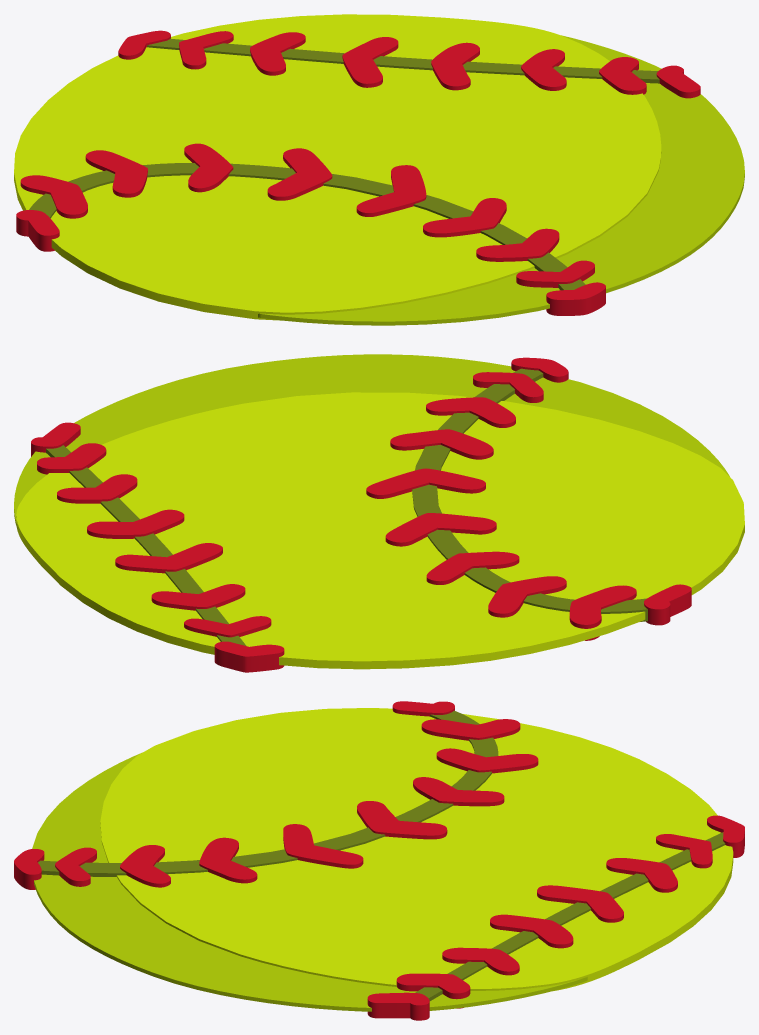
The model's file is emoji_u1f94e.glb.
3 views of the same model, one above another, from view 1: azimuth 30°, elevation 25°; view 2: azimuth 150°, elevation 25°; view 3: azimuth 270°, elevation 25° (orthographic). The views are drawn at different scales.
Parts seen in each view (by area): view 1: emoji_u1f94e; view 2: emoji_u1f94e; view 3: emoji_u1f94e.
Part boxes in pixels (box(x1,y1,x2,y2)): emoji_u1f94e: box(14, 14, 744, 325); emoji_u1f94e: box(14, 354, 744, 672); emoji_u1f94e: box(14, 701, 744, 1020).
Bounding box in the file's own units: 0.0341 × 0.0008 × 0.0346.
